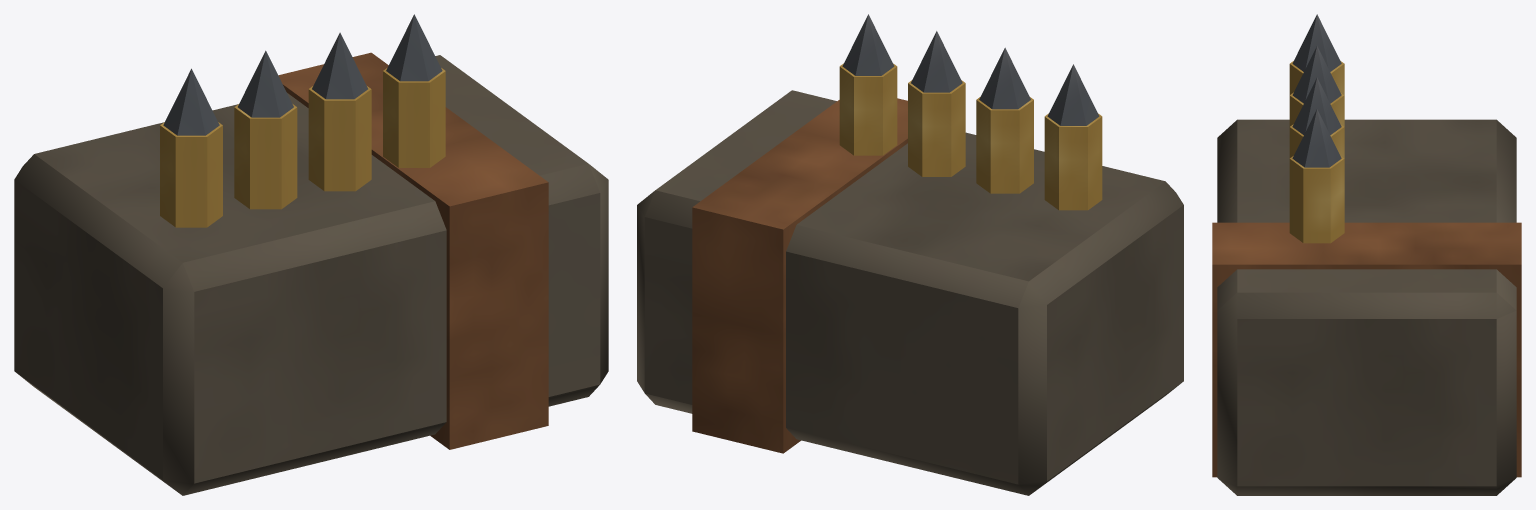
File: SM_Ammo_Pistol.fbx
The picture shows the model from 3 angles, left to right: view 1: azimuth 30°, elevation 25°; view 2: azimuth 150°, elevation 25°; view 3: azimuth 270°, elevation 25°; orthographic projection. The views are drawn at different scales.
Parts seen in each view (by area): view 1: SM_Ammo_Pistol; view 2: SM_Ammo_Pistol; view 3: SM_Ammo_Pistol.
Part boxes in pixels (<box>): SM_Ammo_Pistol: <box>14,14,608,495</box>; SM_Ammo_Pistol: <box>637,14,1183,495</box>; SM_Ammo_Pistol: <box>1212,14,1521,495</box>.
Size of the model in its own units: 0.9 by 0.745 by 0.62.
Materials: 1 (1 with a texture image).
